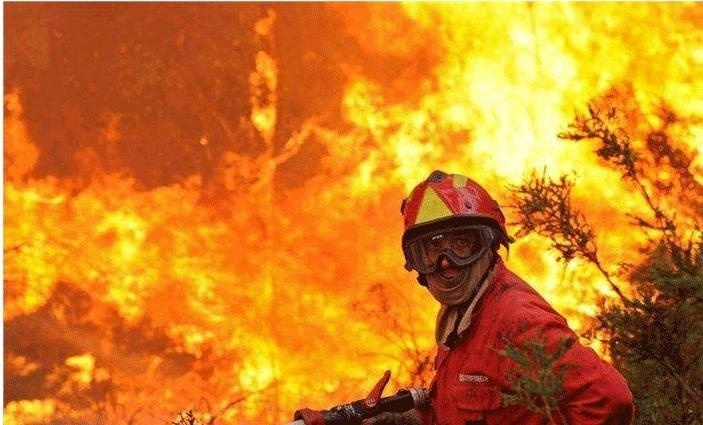fire: (0, 12, 613, 412)
